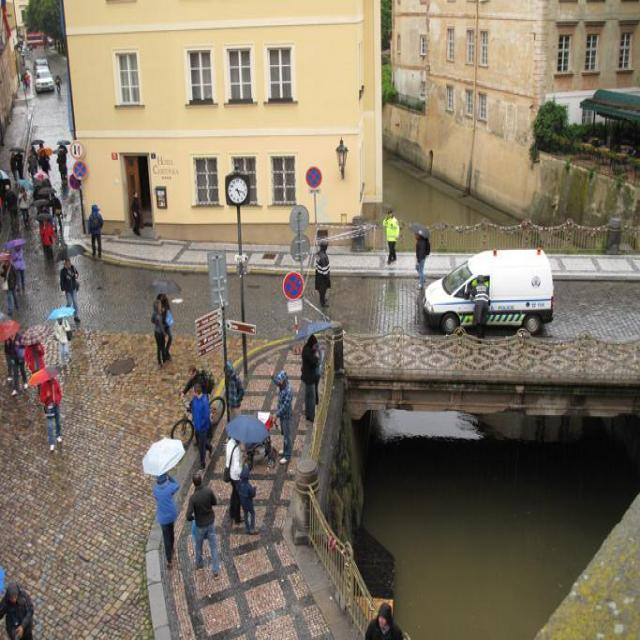flood: (343, 362, 640, 640)
